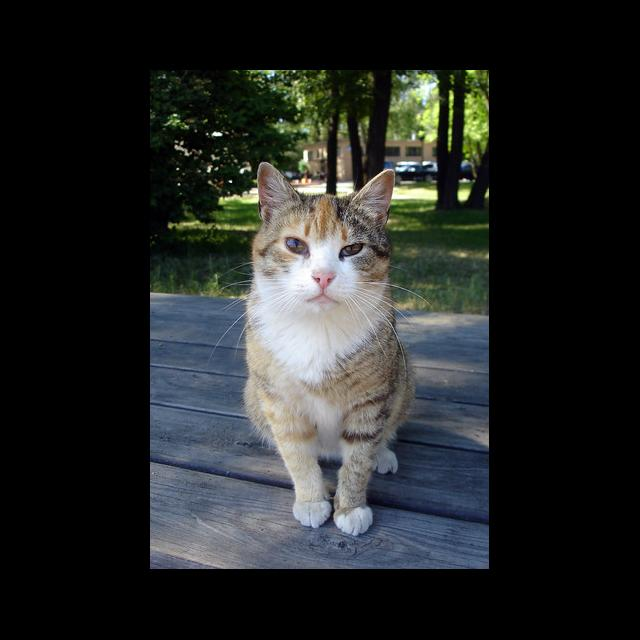animals: (247, 163, 418, 537)
